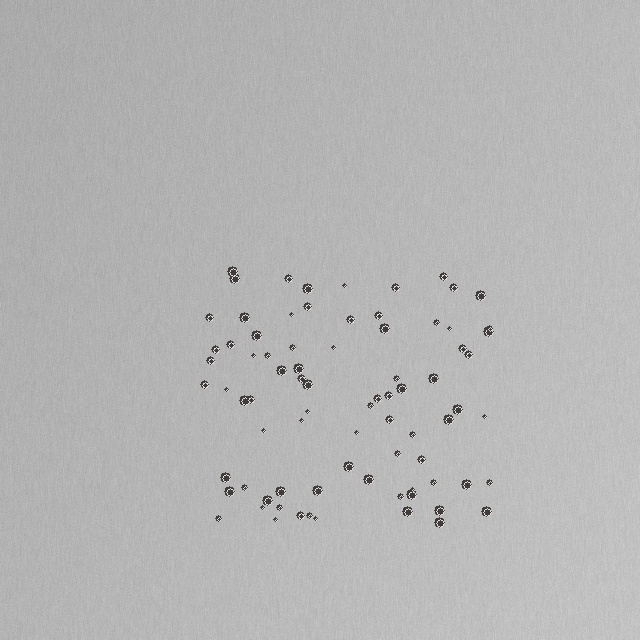punching hole: (200, 200, 440, 440)
